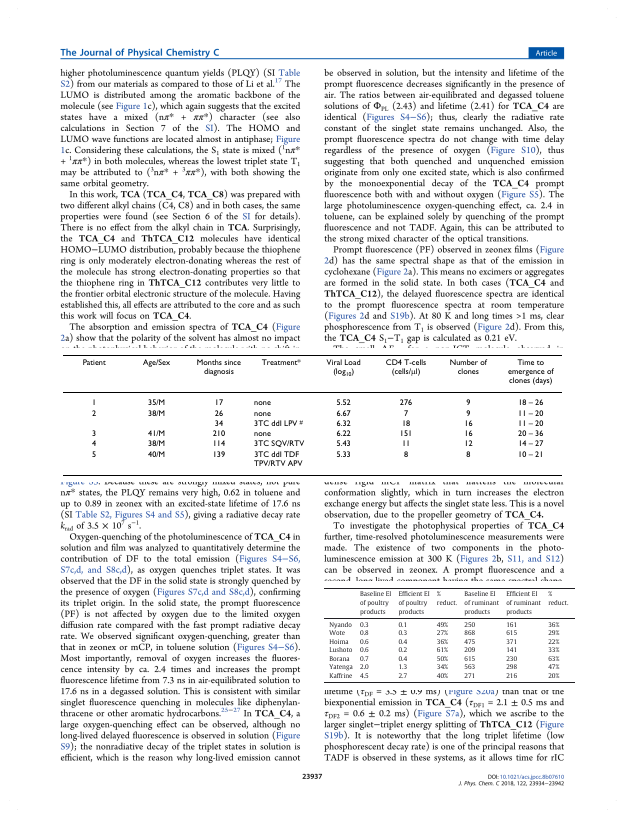borderless: (62, 353, 562, 475), (323, 586, 575, 682)
cell: (506, 357, 554, 386), (253, 449, 303, 468), (384, 356, 427, 378), (463, 591, 500, 616), (505, 591, 542, 616), (195, 357, 241, 376), (359, 591, 392, 616), (398, 591, 431, 616), (325, 357, 361, 378), (448, 357, 487, 376), (253, 439, 305, 449), (253, 418, 303, 428), (260, 357, 301, 367), (547, 591, 570, 607), (436, 591, 458, 607), (141, 357, 171, 367), (517, 398, 544, 408), (517, 408, 544, 418), (517, 429, 544, 439), (517, 439, 544, 449), (517, 449, 544, 459), (81, 357, 106, 367), (517, 419, 544, 428), (328, 672, 354, 681), (328, 646, 353, 655), (328, 664, 354, 672), (328, 621, 353, 629), (147, 398, 166, 408), (147, 408, 166, 418), (147, 429, 166, 439), (147, 439, 166, 449), (147, 449, 166, 459), (328, 655, 351, 663), (253, 398, 271, 408), (253, 408, 271, 418), (253, 429, 271, 439), (328, 638, 350, 646), (328, 629, 346, 638), (335, 398, 351, 408), (335, 408, 351, 418), (335, 429, 351, 439), (335, 439, 351, 449), (335, 449, 351, 459), (398, 398, 413, 408), (211, 429, 226, 439), (398, 429, 413, 439), (211, 439, 226, 449), (211, 449, 226, 459), (335, 419, 351, 428), (436, 629, 449, 638), (463, 629, 476, 638), (505, 629, 518, 638), (547, 629, 560, 638), (436, 646, 449, 655), (463, 646, 476, 655), (505, 646, 518, 655), (547, 646, 560, 655), (436, 672, 449, 681), (463, 672, 476, 681), (505, 672, 518, 681), (547, 672, 560, 681), (213, 398, 224, 408), (213, 408, 224, 418), (400, 439, 411, 449), (436, 621, 449, 629), (463, 621, 476, 629), (505, 621, 518, 629), (547, 621, 560, 629), (436, 638, 449, 646), (463, 638, 476, 646), (505, 638, 518, 646), (547, 638, 560, 646), (436, 655, 449, 663), (463, 655, 476, 663), (505, 655, 518, 663), (547, 655, 560, 663), (436, 664, 449, 672), (463, 664, 476, 672), (505, 664, 518, 672), (547, 664, 560, 672), (463, 429, 473, 439), (463, 439, 473, 449), (359, 629, 370, 638), (359, 646, 370, 655), (359, 672, 370, 681), (213, 419, 224, 428), (400, 419, 411, 428), (398, 629, 408, 638), (398, 646, 408, 655), (398, 672, 408, 681), (463, 419, 473, 428), (359, 621, 370, 629), (359, 638, 370, 646), (359, 655, 370, 663), (359, 664, 370, 672), (398, 621, 408, 629), (398, 638, 408, 646), (398, 655, 408, 663), (398, 664, 408, 672), (402, 408, 409, 418), (402, 449, 409, 459), (91, 398, 97, 408), (465, 398, 471, 408), (91, 408, 97, 418), (465, 408, 471, 418), (91, 429, 97, 439), (91, 439, 97, 449), (91, 449, 97, 459), (465, 449, 471, 459)
